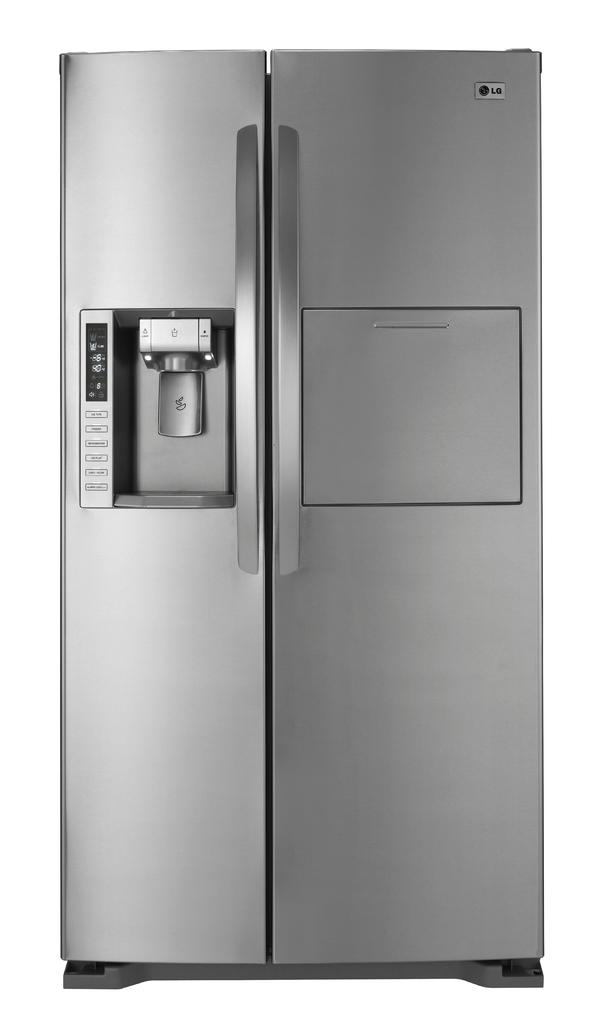handle: (273, 121, 304, 583), (232, 125, 262, 580)
